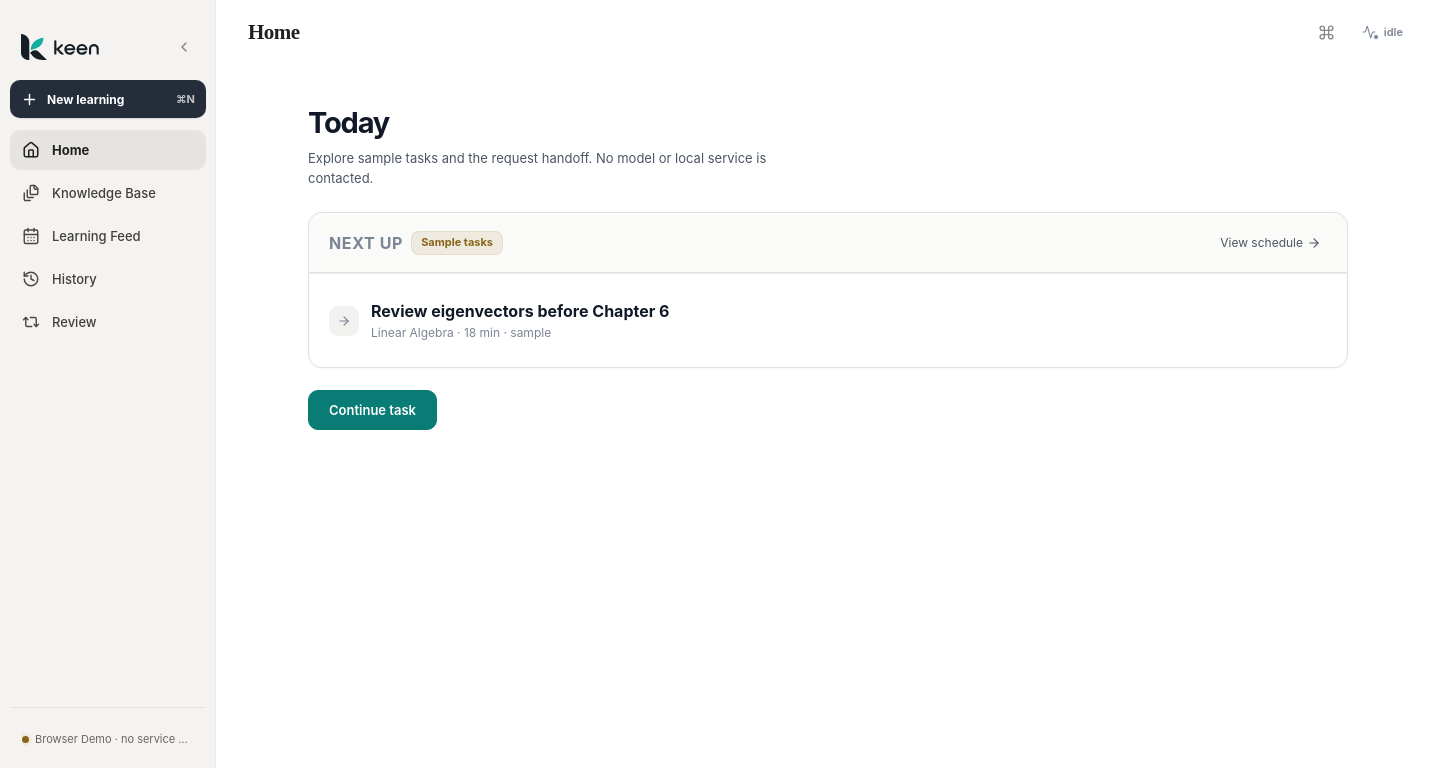
it: desktop workflow › navigates from Home to the Knowledge Base
This screenshot has width=1440, height=768.
Expected: the heading "Today" is shown, [308,105,389,140]
Click the link "Knowledge Base".
click(89, 193)  # box [22,184,156,202]
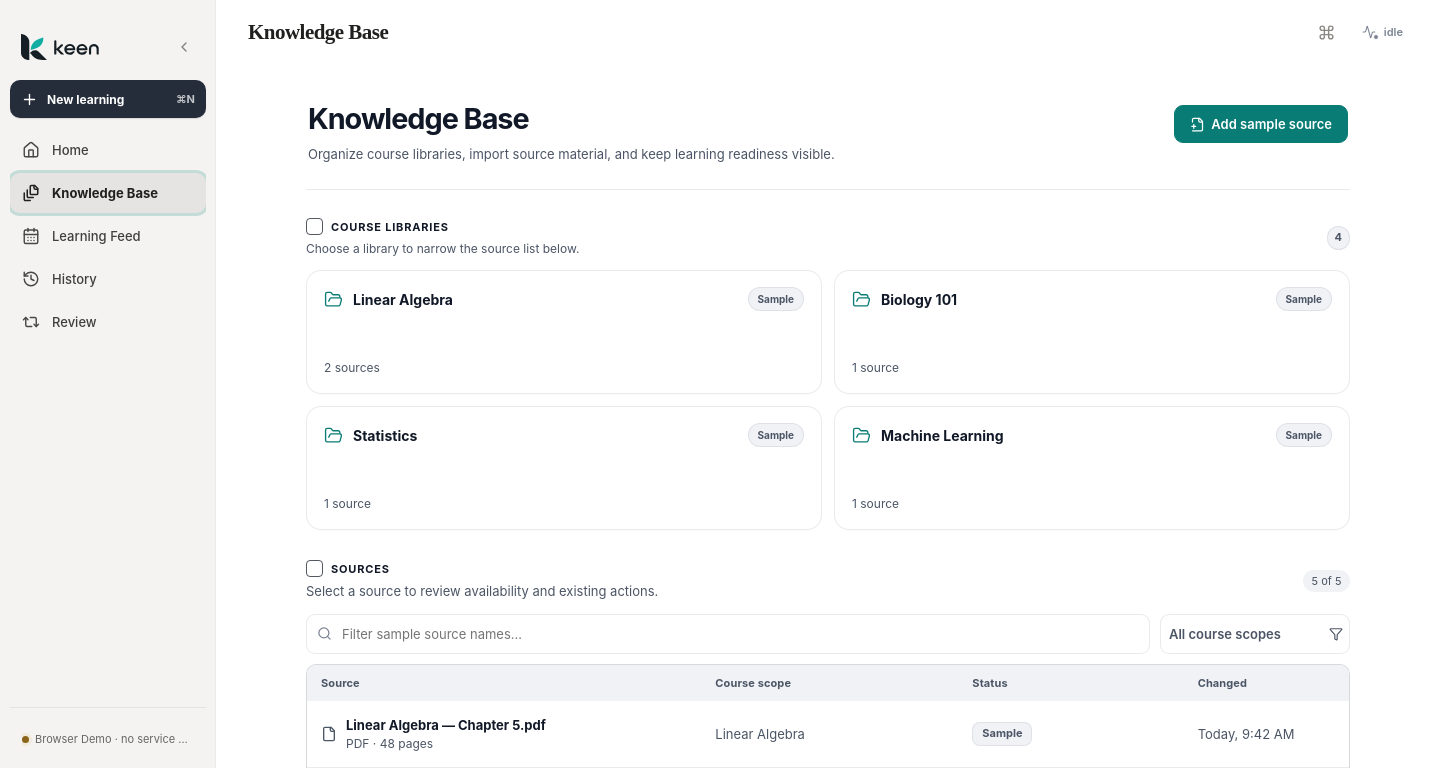
Expected: the heading "Knowledge Base" is shown, [308,101,529,136]
Expected: the text "Linear Algebra — Chapter 5.pdf" is shown, [346,717,546,733]
